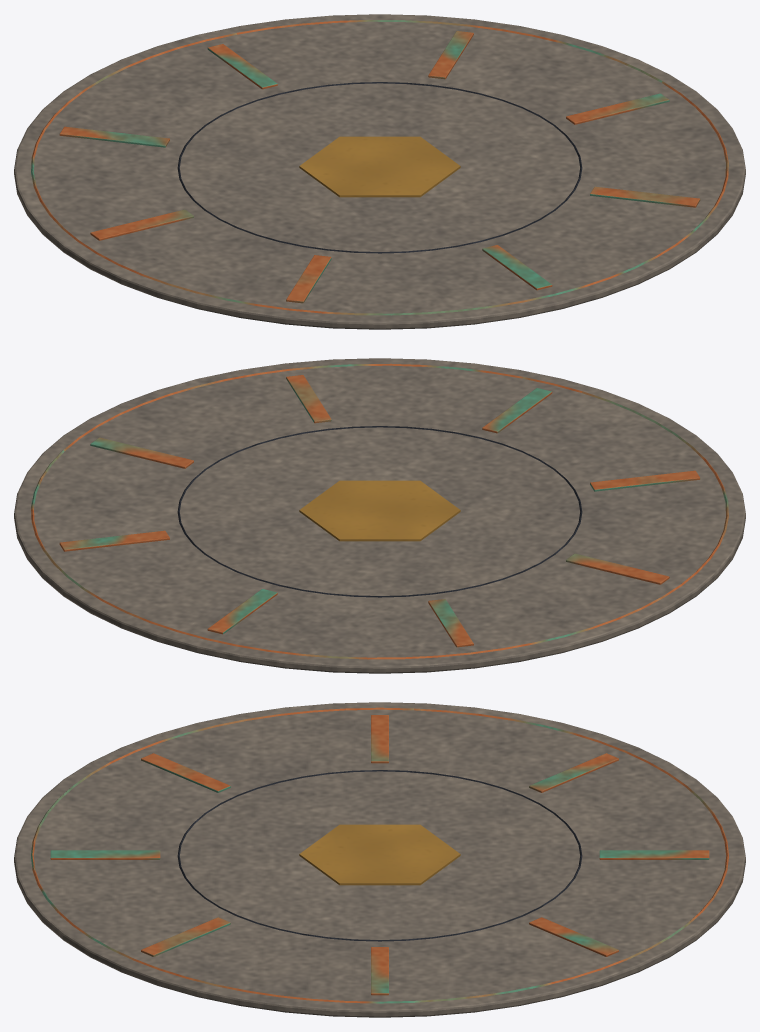
The model's file is medallion.glb.
3 views of the same model, one above another, from view 1: azimuth 30°, elevation 25°; view 2: azimuth 150°, elevation 25°; view 3: azimuth 270°, elevation 25° (orthographic).
Visible parts, largest first — view 1: Medallion_Disc, Medallion_Anvil, Medallion_CopperRim, Medallion_IronRing, Medallion_Ray_3, Medallion_Ray_7, Medallion_Ray_4, Medallion_Ray_0, Medallion_Ray_2, Medallion_Ray_6, Medallion_Ray_5, Medallion_Ray_1; view 2: Medallion_Disc, Medallion_Anvil, Medallion_CopperRim, Medallion_IronRing, Medallion_Ray_5, Medallion_Ray_1, Medallion_Ray_4, Medallion_Ray_0, Medallion_Ray_2, Medallion_Ray_6, Medallion_Ray_3, Medallion_Ray_7; view 3: Medallion_Disc, Medallion_Anvil, Medallion_CopperRim, Medallion_IronRing, Medallion_Ray_2, Medallion_Ray_6, Medallion_Ray_1, Medallion_Ray_7, Medallion_Ray_3, Medallion_Ray_5, Medallion_Ray_0, Medallion_Ray_4.
Boxes of the visible parts, x1,y1,x2,y2 form: Medallion_Disc: (14, 14, 745, 329); Medallion_Anvil: (299, 136, 460, 197); Medallion_CopperRim: (31, 19, 728, 315); Medallion_IronRing: (177, 82, 582, 253); Medallion_Ray_3: (59, 126, 169, 147); Medallion_Ray_7: (590, 186, 700, 207); Medallion_Ray_4: (90, 209, 193, 240); Medallion_Ray_0: (566, 93, 669, 124); Medallion_Ray_2: (207, 44, 277, 89); Medallion_Ray_6: (482, 245, 552, 290); Medallion_Ray_5: (286, 255, 331, 303); Medallion_Ray_1: (428, 31, 473, 79); Medallion_Disc: (14, 358, 745, 673); Medallion_Anvil: (299, 480, 460, 541); Medallion_CopperRim: (31, 363, 728, 659); Medallion_IronRing: (177, 426, 582, 597); Medallion_Ray_5: (590, 470, 700, 491); Medallion_Ray_1: (59, 530, 169, 551); Medallion_Ray_4: (566, 553, 669, 584); Medallion_Ray_0: (90, 437, 193, 468); Medallion_Ray_2: (207, 589, 277, 634); Medallion_Ray_6: (482, 388, 552, 433); Medallion_Ray_3: (428, 599, 473, 647); Medallion_Ray_7: (286, 375, 331, 423); Medallion_Disc: (14, 702, 745, 1017); Medallion_Anvil: (299, 824, 460, 885); Medallion_CopperRim: (31, 707, 728, 1003); Medallion_IronRing: (177, 770, 582, 941); Medallion_Ray_2: (599, 850, 709, 859); Medallion_Ray_6: (50, 850, 160, 859); Medallion_Ray_1: (529, 917, 618, 956); Medallion_Ray_7: (141, 917, 230, 956); Medallion_Ray_3: (529, 753, 618, 792); Medallion_Ray_5: (141, 753, 230, 792); Medallion_Ray_0: (371, 947, 388, 995); Medallion_Ray_4: (371, 715, 388, 763).
Bounding box in the file's own units: 2 × 0.03 × 2.
Materials: 4 (4 with a texture image).
